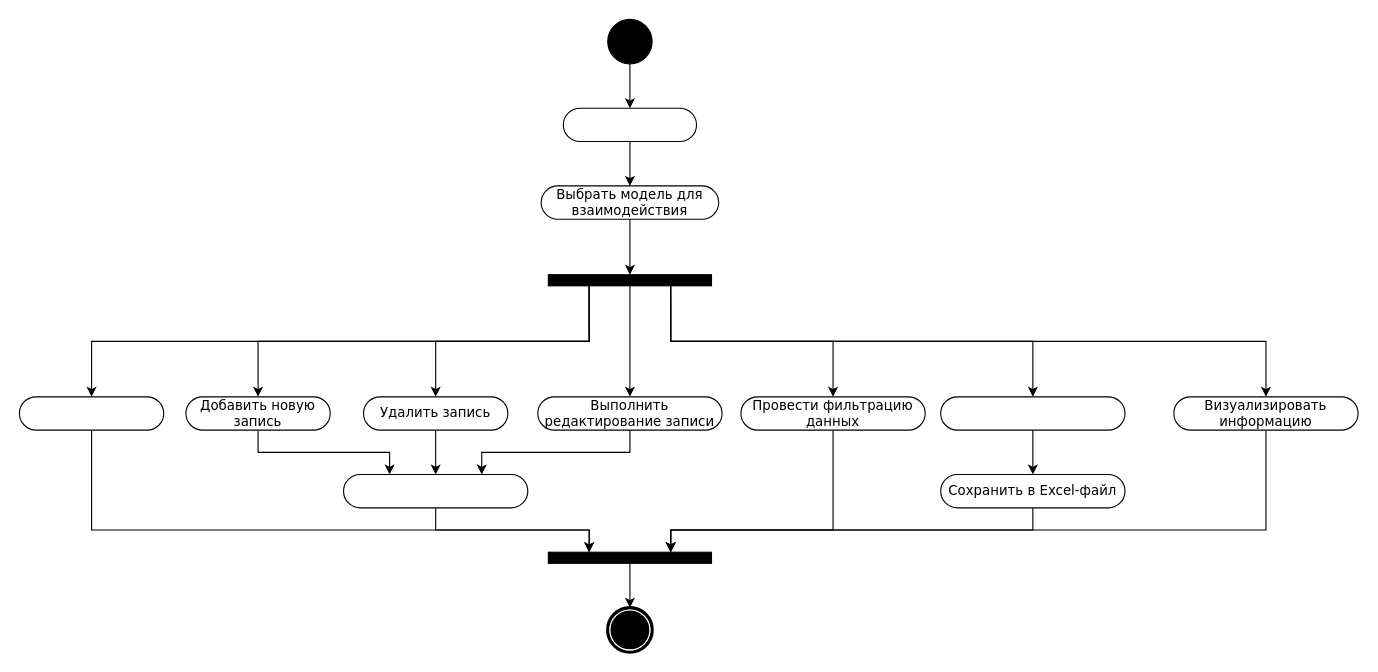
This 1378x672 diagram has some shape labels left out. The centre of each missing label's shape, as x and y in pixels:
"Авторизоваться" belongs at [629,124].
"Загрузить данные из базы данных" belongs at [91,413].
"Сохранить изменения" belongs at [435,490].
"Сформировать отчет" belongs at [1032,413].
